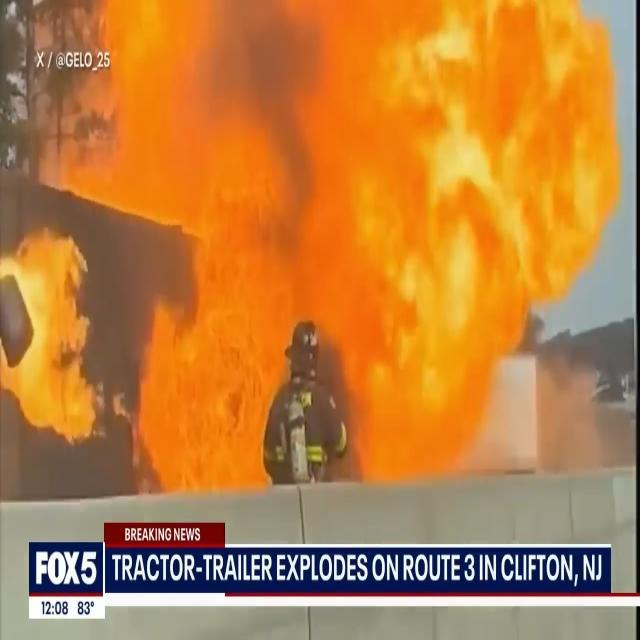fire: (102, 2, 618, 478), (1, 234, 103, 442)
